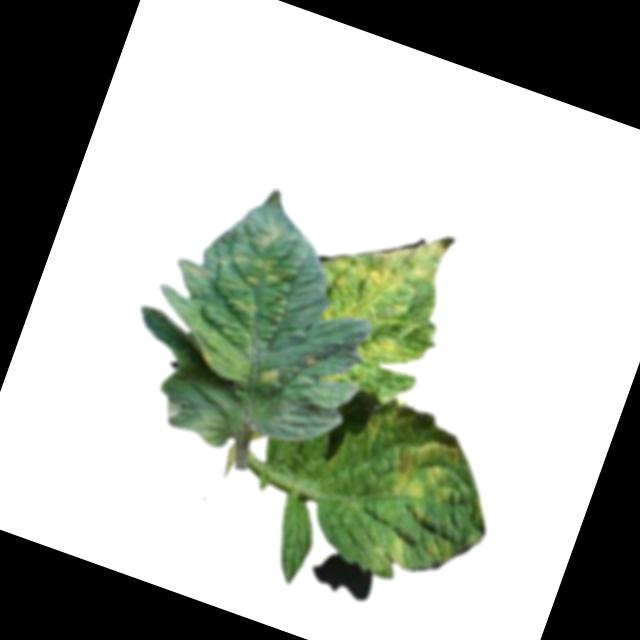Leaf_Mold: (143, 192, 320, 391), (310, 204, 459, 375), (385, 431, 476, 520), (383, 527, 415, 568)
